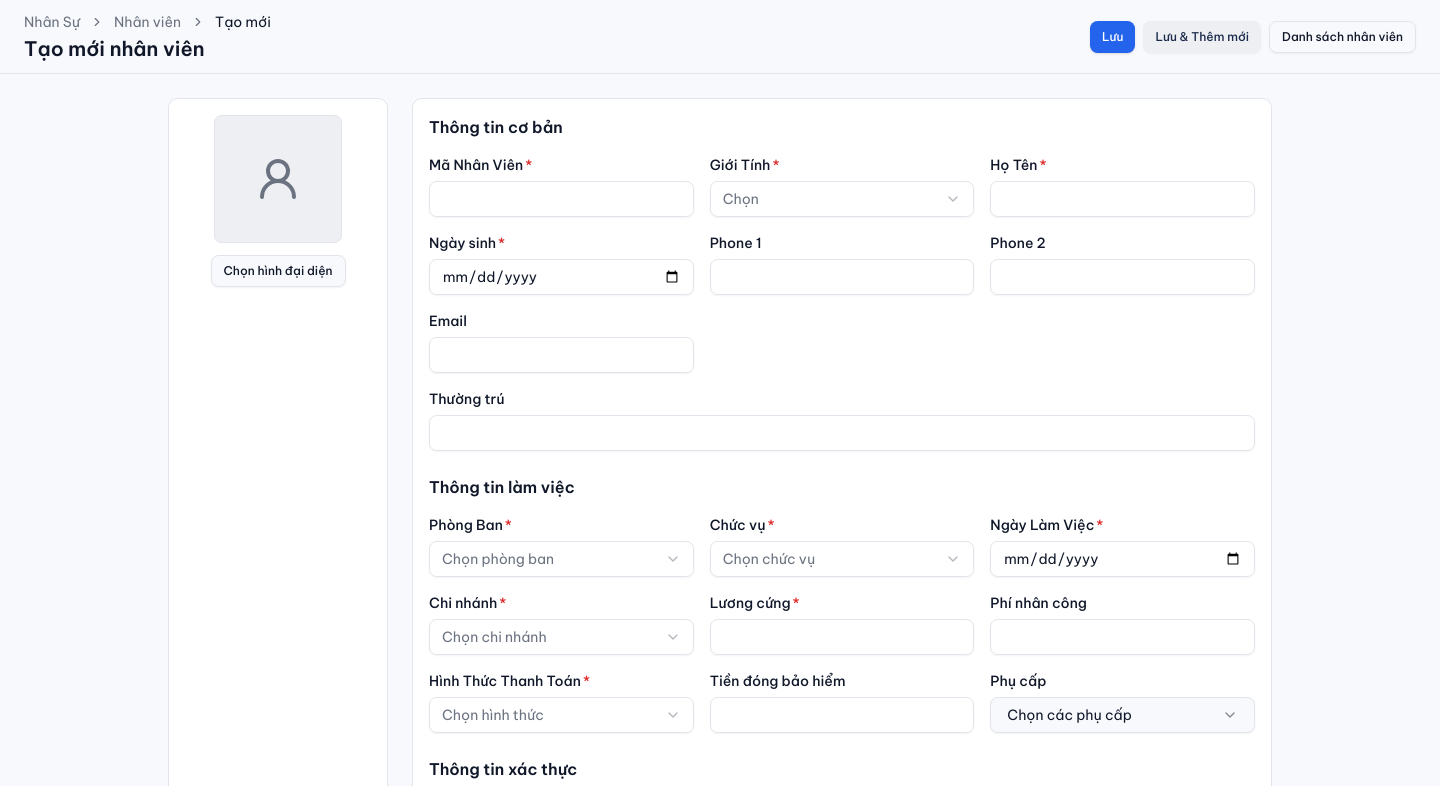
Test: EmployeeEditorPage — create mode › validates required fields on save
This screenshot has width=1440, height=786.
Click the button "Lưu": (1113, 36) [1090,20,1135,52]
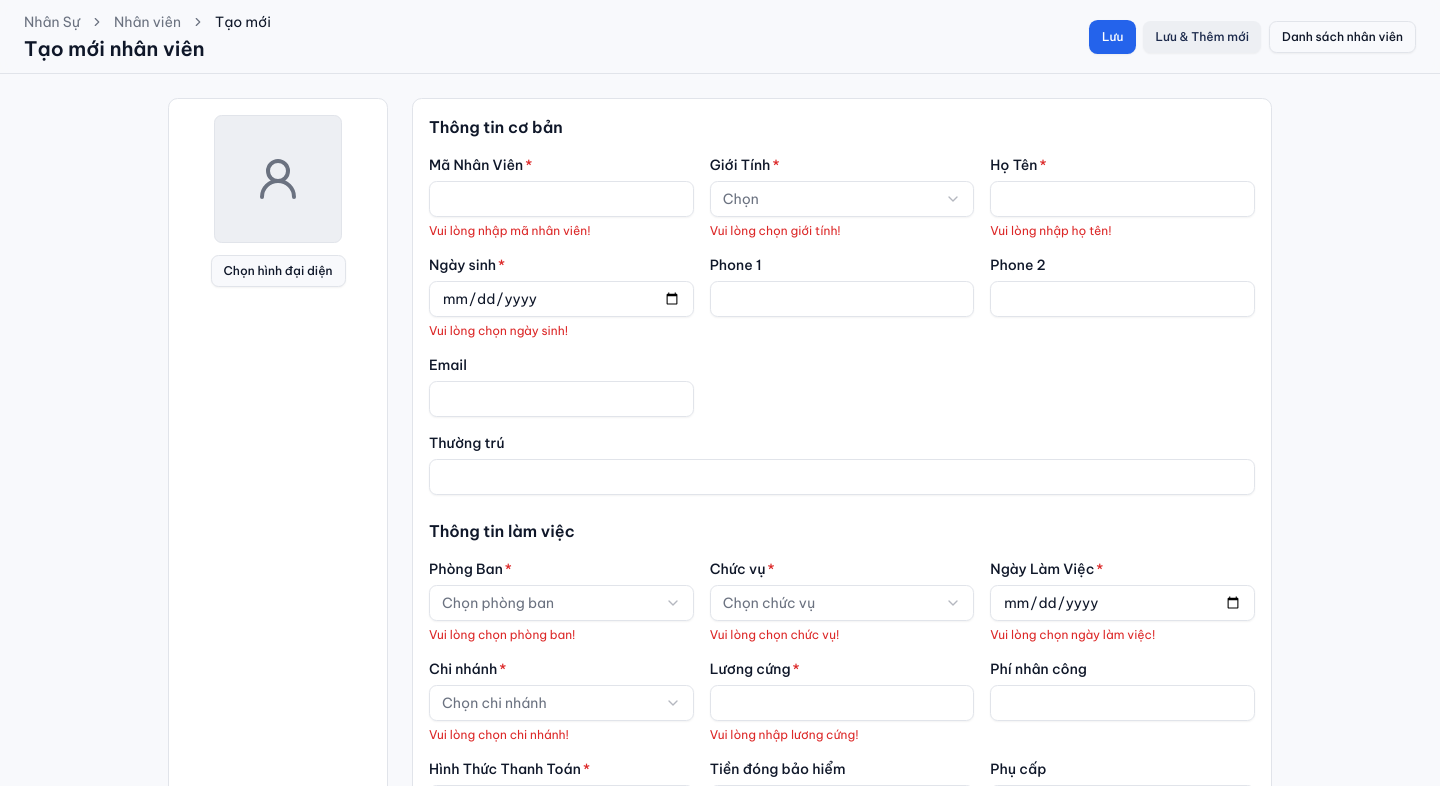
Result: the text "Vui lòng nhập mã nhân viên!" is shown at [429,223,590,238]
